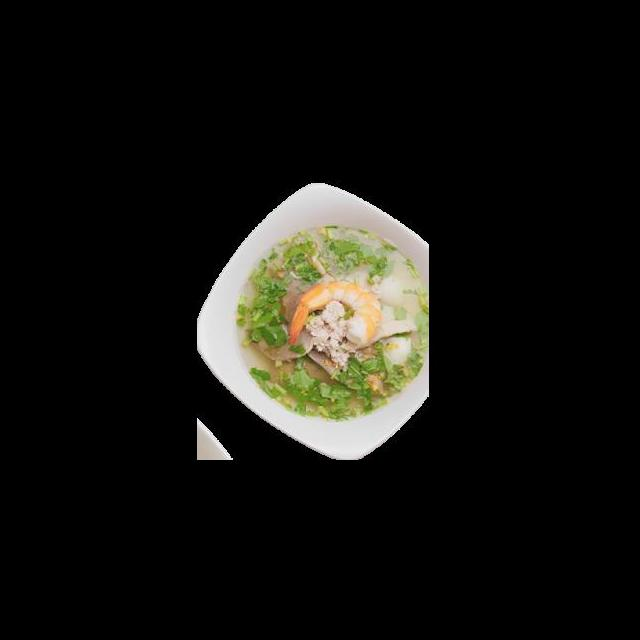thit bam: (302, 298, 357, 369)
thit heo: (341, 297, 420, 351)
tom: (284, 276, 384, 351)
